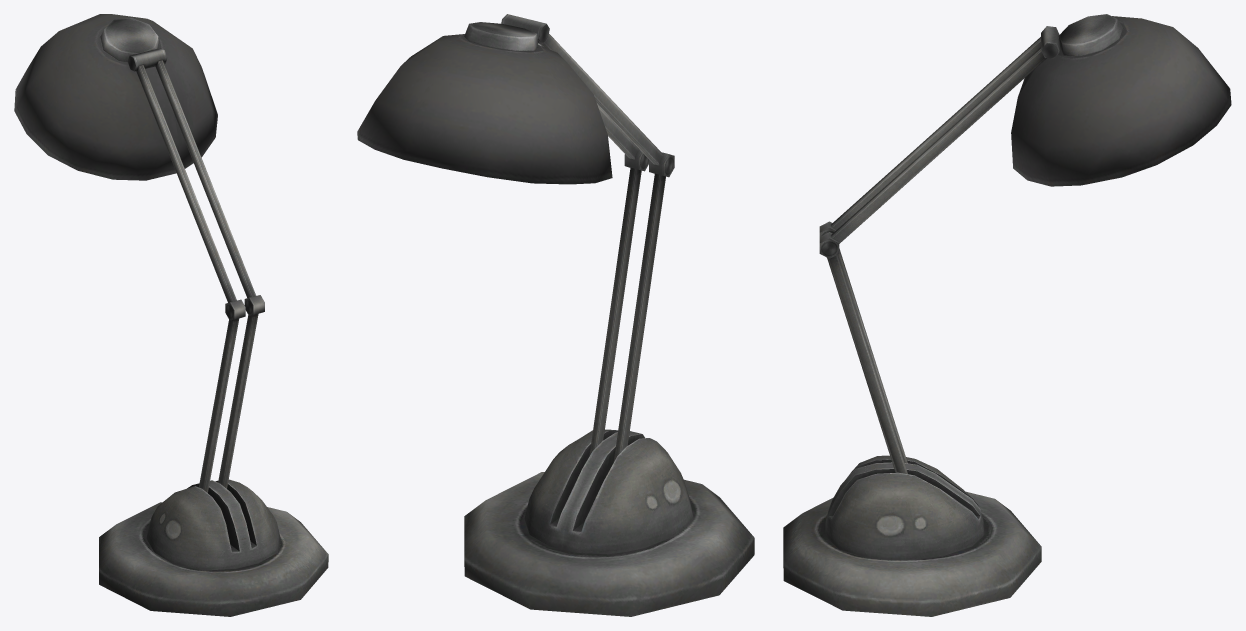
File: desklamp_scanroom.dae
The picture shows the model from 3 angles, left to right: view 1: azimuth 30°, elevation 25°; view 2: azimuth 150°, elevation 25°; view 3: azimuth 270°, elevation 25°; orthographic projection. The views are drawn at different scales.
Visible parts, largest first — view 1: desklamp_scanroom; view 2: desklamp_scanroom; view 3: desklamp_scanroom.
Boxes of the visible parts, x1,y1,x2,y2 form: desklamp_scanroom: (14,14,328,616); desklamp_scanroom: (357,14,754,616); desklamp_scanroom: (783,14,1231,616).
Size of the model in its own units: 20 by 45.52 by 34.16.
